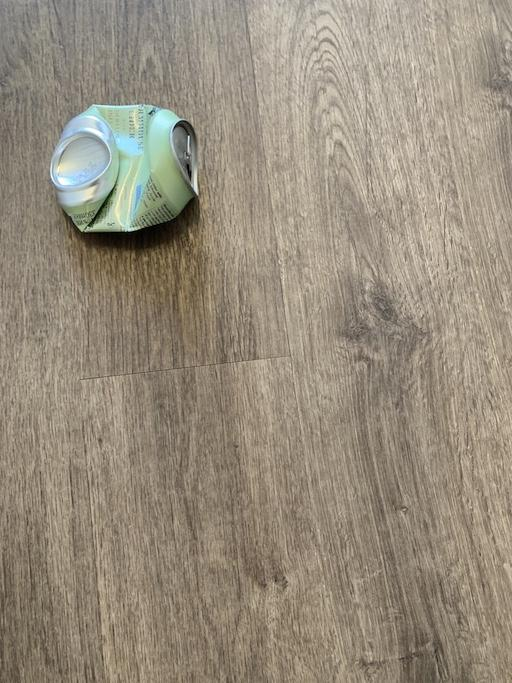Aluminum can: (38, 92, 232, 245)
